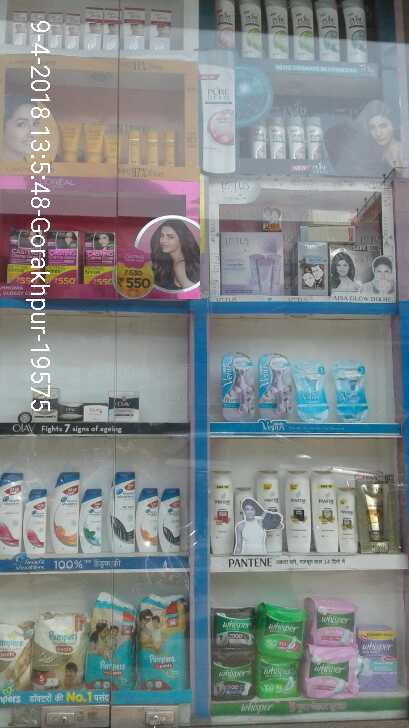venus: (332, 361, 368, 424), (223, 353, 255, 419), (293, 360, 328, 420), (259, 352, 290, 418)
